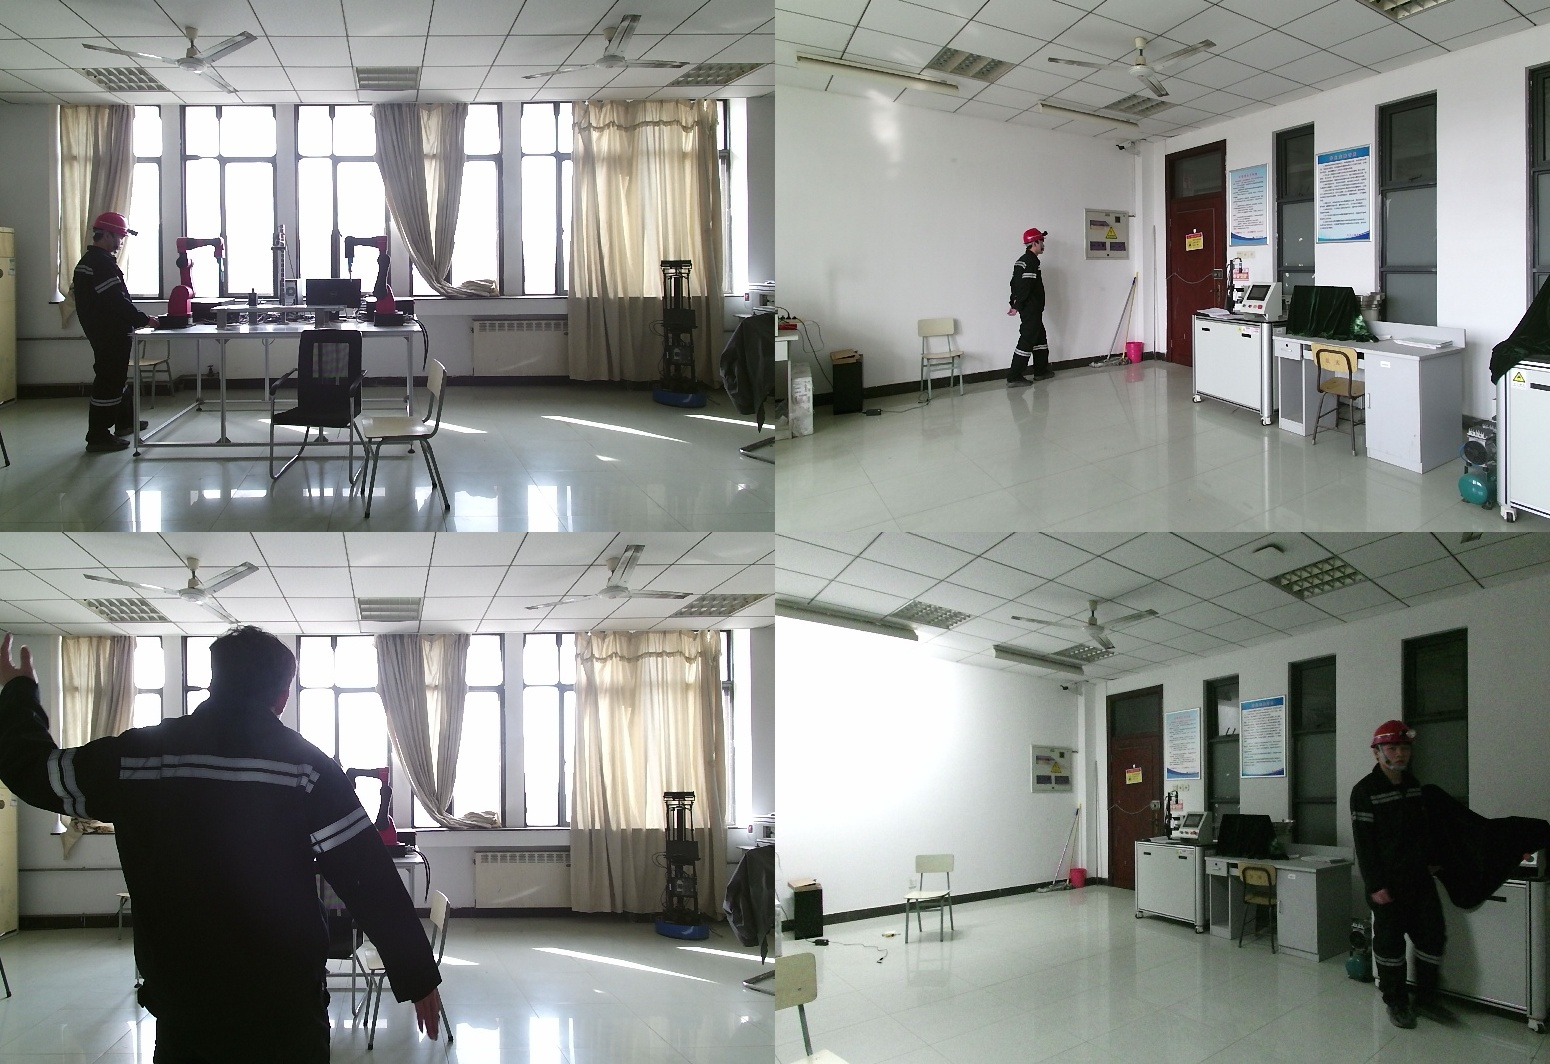person: (1, 629, 451, 1064), (1349, 721, 1442, 1028), (71, 213, 161, 454), (1007, 232, 1054, 391)
